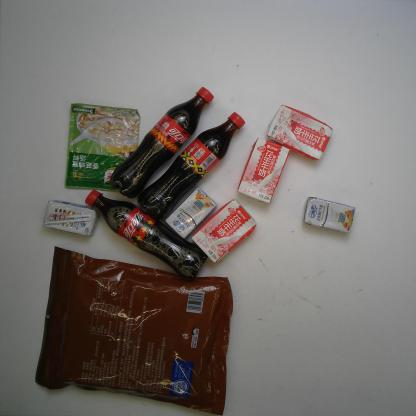Dried Food: (33, 242, 236, 416)
Drink: (136, 110, 246, 223), (108, 85, 215, 200), (83, 188, 210, 281)
Milk: (190, 198, 258, 265), (265, 103, 335, 162), (236, 136, 292, 205), (164, 185, 218, 241), (41, 198, 101, 237), (301, 195, 357, 234)
Seasoner: (63, 100, 144, 194)
